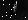person: (8, 1, 17, 16)
